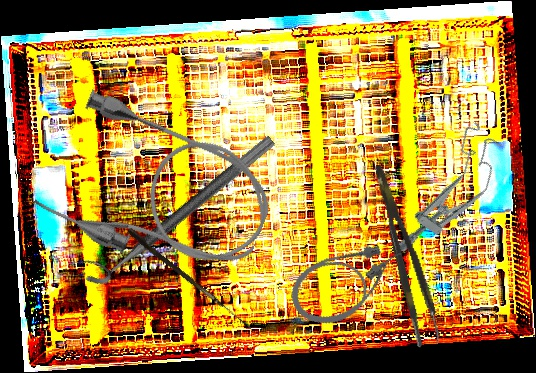Cannula: (28, 84, 287, 299), (282, 232, 416, 335)
Fixation Ring: (75, 119, 277, 293)
Hook Surgical: (125, 227, 256, 330)
Speculum: (387, 119, 515, 271)
Tissue Forceps: (371, 160, 444, 349)
